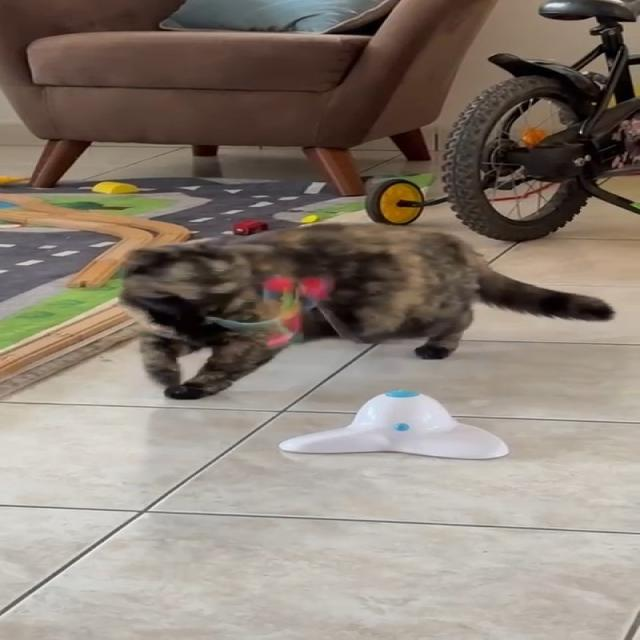authorized: (116, 221, 616, 400)
